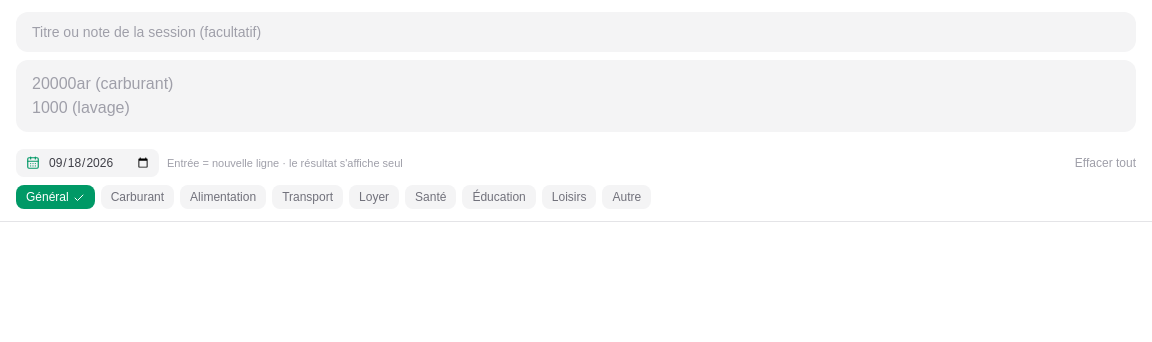
Test case: NoteInput › shows an invalid marker and blocks submit for invalid lines
In the text box with placeholder "20000ar (carburant)": x=576, y=96 [16,60,1136,132], type "bonjour le monde"
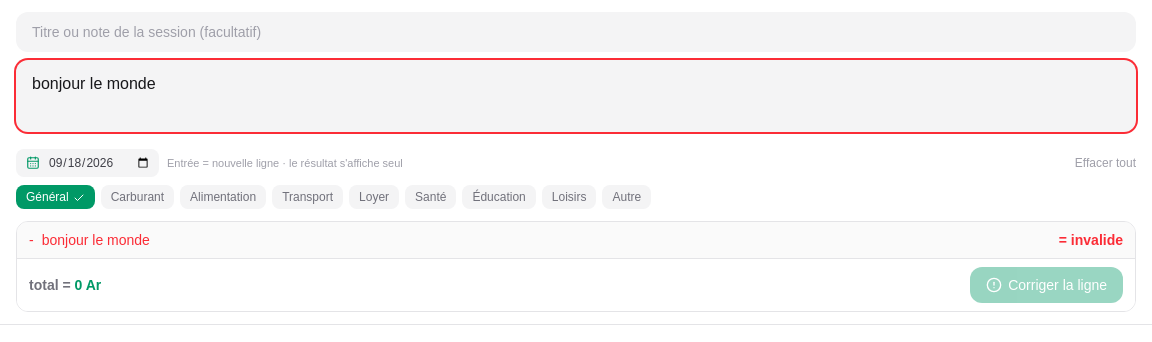
Now the text "= invalide" is shown, box [1059,230,1123,250]
Now the button "Corriger la ligne" is shown, box [970,267,1123,303]
